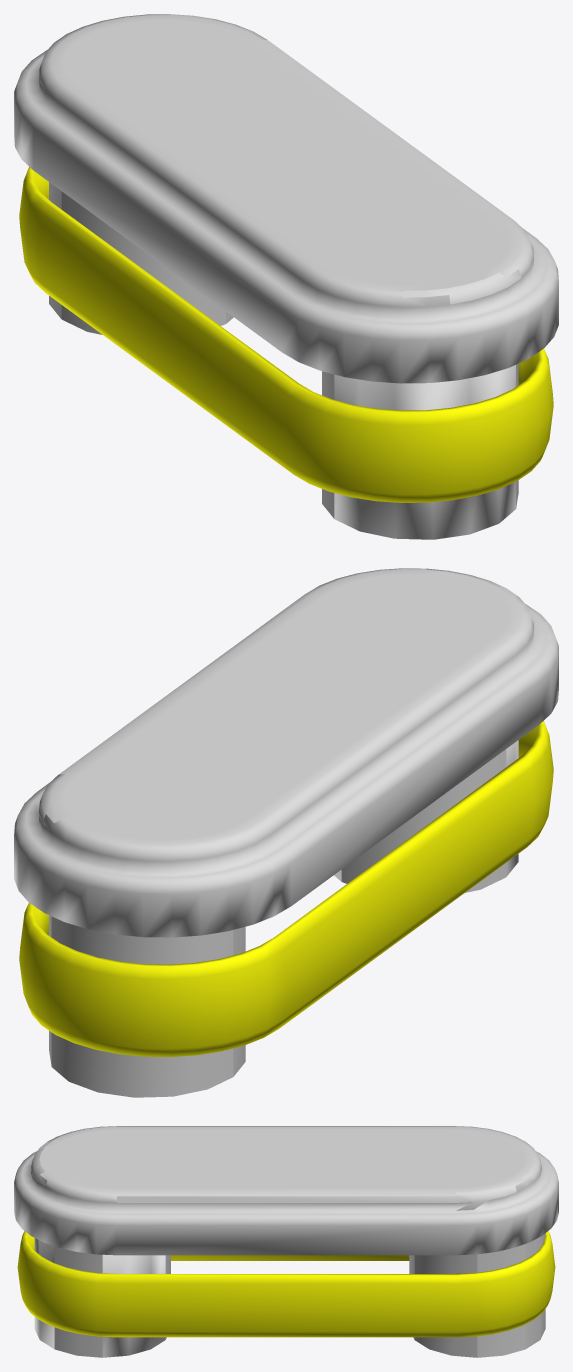
File: SM_GOW_Pill01.FBX
3 views of the same model, one above another, from view 1: azimuth 30°, elevation 25°; view 2: azimuth 150°, elevation 25°; view 3: azimuth 270°, elevation 25° (orthographic). The views are drawn at different scales.
Visible parts, largest first — view 1: SM_GOW_Pill01; view 2: SM_GOW_Pill01; view 3: SM_GOW_Pill01.
Part boxes in pixels (bbox=[...]): SM_GOW_Pill01: bbox=[14, 14, 558, 539]; SM_GOW_Pill01: bbox=[14, 568, 558, 1097]; SM_GOW_Pill01: bbox=[14, 1126, 558, 1357].
Size of the model in its own units: 96 by 256 by 88.
